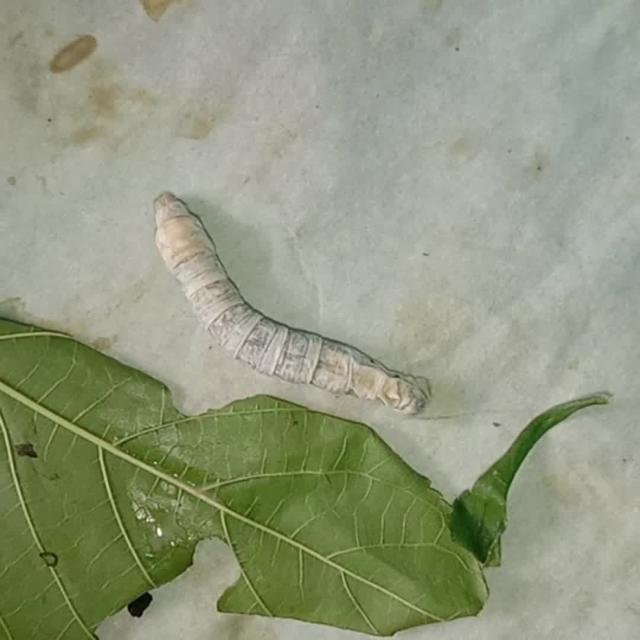Grasserie: (138, 180, 432, 423)
